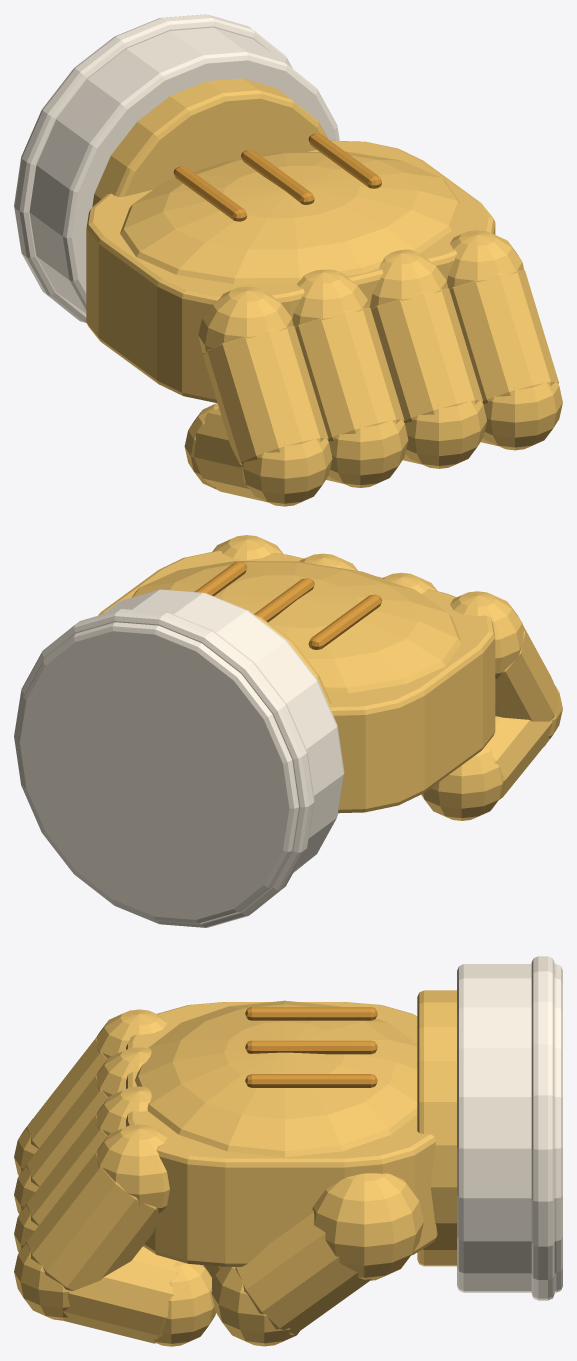
Rendered from hand_closed.glb.
3 renders of one model, top to bottom at view 1: azimuth 30°, elevation 25°; view 2: azimuth 150°, elevation 25°; view 3: azimuth 270°, elevation 25°, orthographic.
Visible parts, largest first — view 1: HandClosed; view 2: HandClosed; view 3: HandClosed.
Boxes of the visible parts, x1,y1,x2,y2 form: HandClosed: [14, 14, 562, 506]; HandClosed: [14, 535, 562, 927]; HandClosed: [14, 956, 562, 1346].
Size of the model in its own units: 0.65 by 0.524 by 0.8293.
